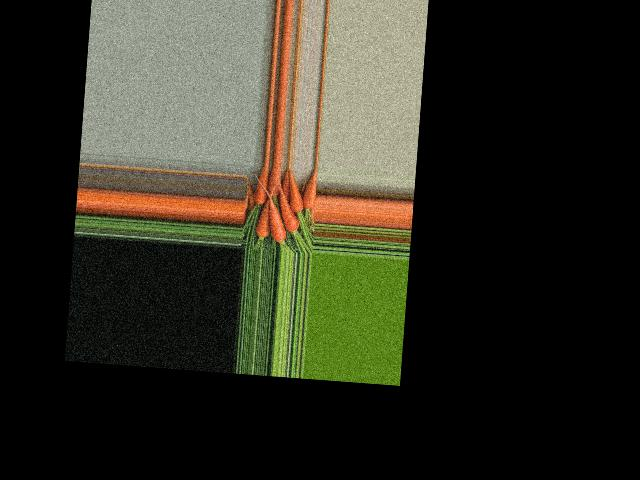carrot: (306, 168, 316, 210)
